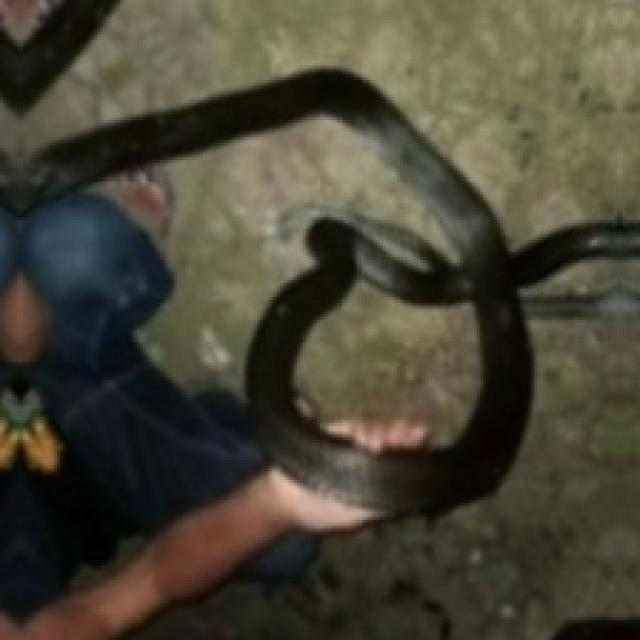king cobra: (0, 69, 637, 514), (3, 71, 503, 391), (0, 0, 637, 246), (254, 263, 526, 509), (291, 274, 483, 449), (509, 320, 637, 489), (580, 443, 591, 451)
